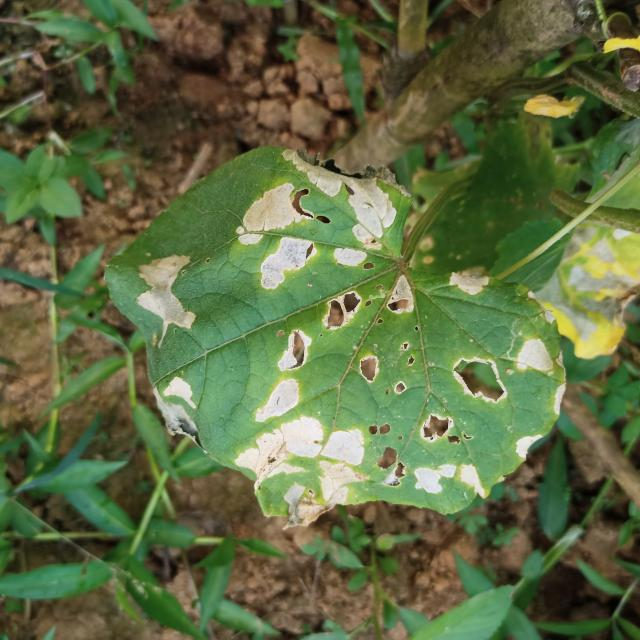disease_cucumber: (132, 156, 553, 496)
